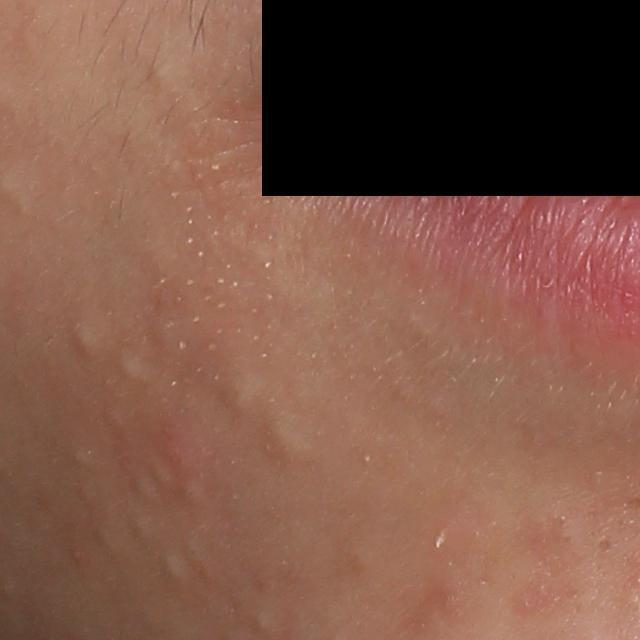comedo: (264, 417, 316, 466), (219, 372, 265, 420), (71, 319, 102, 362), (116, 349, 146, 383), (144, 60, 178, 89), (159, 554, 186, 590), (131, 475, 156, 502), (592, 534, 616, 559), (147, 462, 169, 489), (253, 609, 274, 635), (90, 528, 112, 552), (131, 516, 149, 541), (69, 448, 88, 469), (184, 481, 201, 504)
